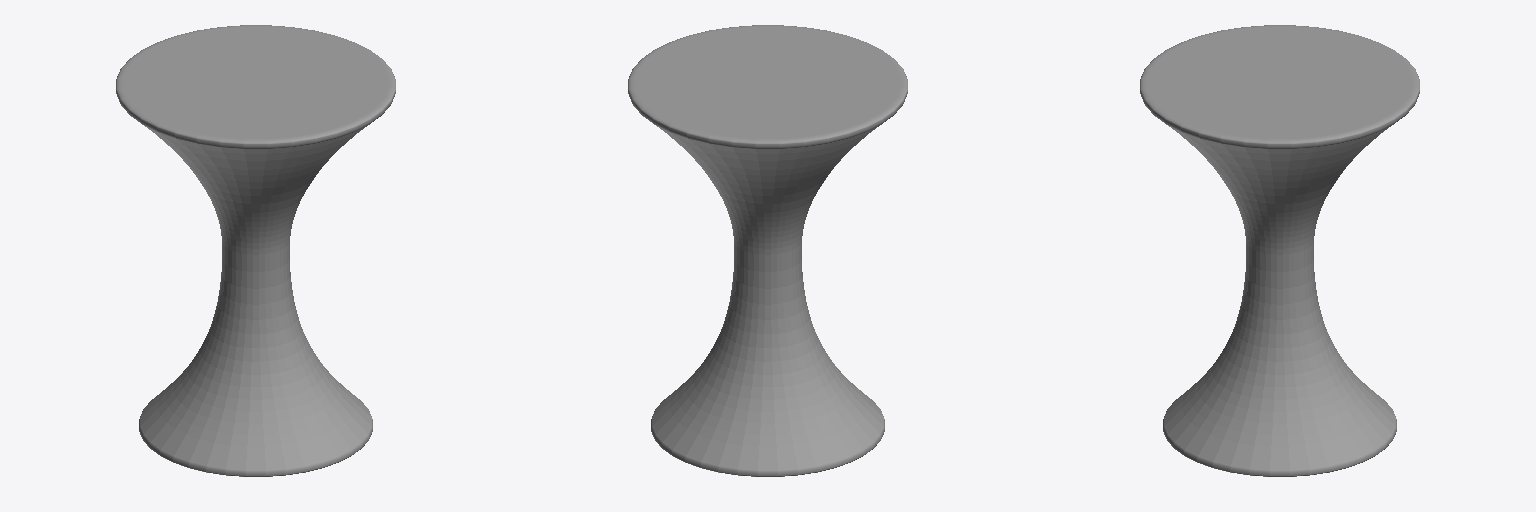
File: minotti.obj
3 renders of one model, left to right at view 1: azimuth 30°, elevation 25°; view 2: azimuth 150°, elevation 25°; view 3: azimuth 270°, elevation 25°, orthographic.
Parts seen in each view (by area): view 1: Mesh_Line05; view 2: Mesh_Line05; view 3: Mesh_Line05.
Boxes of the visible parts, <box> form: Mesh_Line05: <box>116,25,395,476</box>; Mesh_Line05: <box>628,25,907,476</box>; Mesh_Line05: <box>1140,25,1419,476</box>.
Bounding box in the file's own units: 0.836 × 1.14 × 0.836.